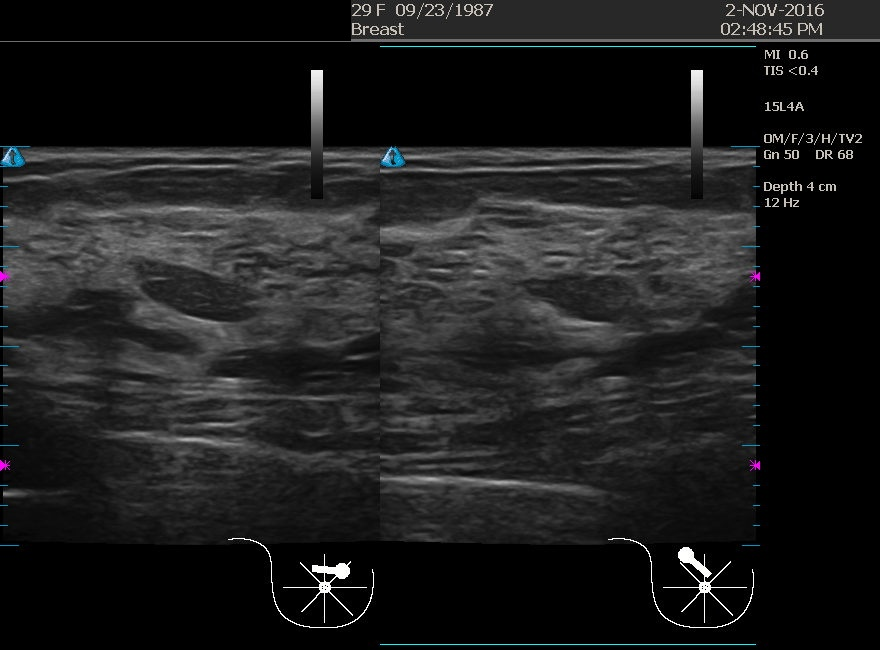BIRADS_3: (115, 200, 315, 400), (457, 206, 657, 406)
